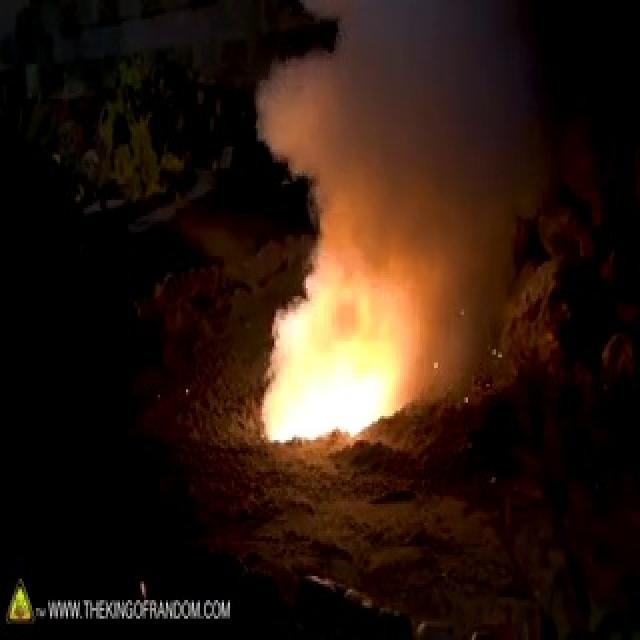Fire: (253, 254, 409, 446)
